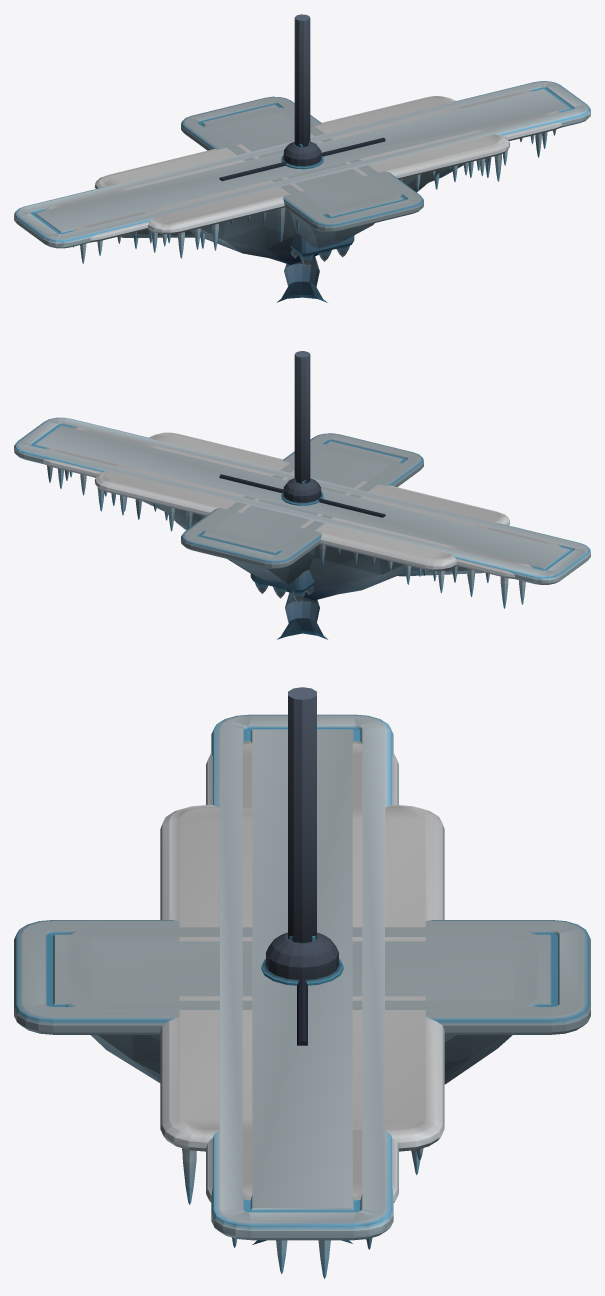
Rendered from glacier-5-Sn4mNcpS.glb.
3 views of the same model, one above another, from view 1: azimuth 30°, elevation 25°; view 2: azimuth 150°, elevation 25°; view 3: azimuth 270°, elevation 25° (orthographic). The views are drawn at different scales.
Visible parts, largest first — view 1: block_40x2x6_ice#1, block_26x2x9#1, block_8x2x19_ice#0, block_7x2x16_ice#1, press_4x6x7#0, block_36x2x6#1, barHub_13x1.2#0, support_1_square#0; view 2: block_40x2x6_ice#1, block_26x2x9#1, block_8x2x19_ice#0, block_7x2x16_ice#1, press_4x6x7#0, block_36x2x6#1, barHub_13x1.2#0, support_1_square#0; view 3: block_40x2x6_ice#1, block_26x2x9#1, block_8x2x19_ice#0, block_7x2x16_ice#1, press_4x6x7#0, block_36x2x6#1, barHub_13x1.2#0.
Part boxes in pixels (box(x1,y1,x2,y2)): block_40x2x6_ice#1: box(14, 81, 590, 248); block_26x2x9#1: box(94, 96, 509, 264); block_8x2x19_ice#0: box(181, 96, 423, 248); block_7x2x16_ice#1: box(202, 107, 402, 215); press_4x6x7#0: box(290, 14, 354, 266); block_36x2x6#1: box(44, 90, 562, 263); barHub_13x1.2#0: box(219, 137, 385, 181); support_1_square#0: box(277, 256, 327, 302); block_40x2x6_ice#1: box(14, 417, 590, 584); block_26x2x9#1: box(94, 432, 509, 600); block_8x2x19_ice#0: box(181, 433, 423, 584); block_7x2x16_ice#1: box(202, 443, 401, 551); press_4x6x7#0: box(250, 351, 314, 602); block_36x2x6#1: box(42, 427, 560, 608); barHub_13x1.2#0: box(219, 474, 385, 517); support_1_square#0: box(277, 592, 327, 639); block_40x2x6_ice#1: box(211, 714, 393, 1240); block_26x2x9#1: box(160, 805, 444, 1204); block_8x2x19_ice#0: box(14, 920, 590, 1084); block_7x2x16_ice#1: box(65, 927, 539, 1010); press_4x6x7#0: box(288, 687, 316, 943); block_36x2x6#1: box(206, 741, 398, 1278); barHub_13x1.2#0: box(261, 932, 343, 1045).
Size of the model in its own units: 40 by 20.54 by 19.
